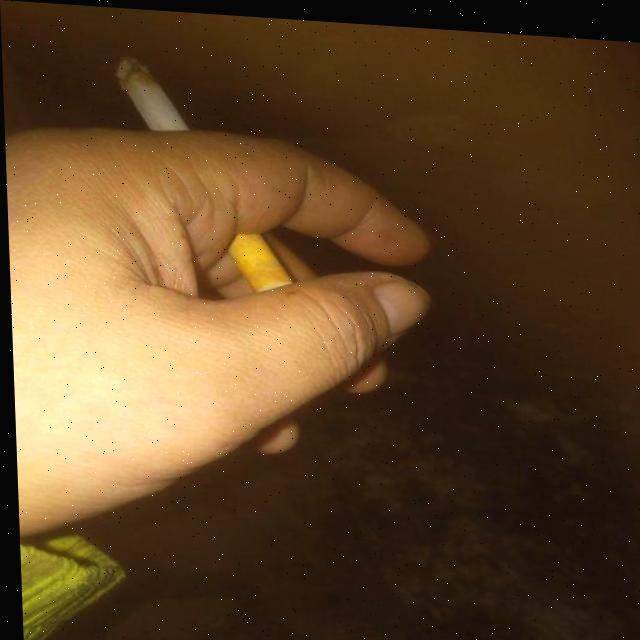cigarette: (113, 52, 293, 290)
